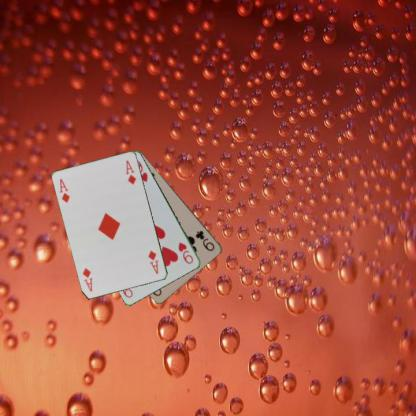9c: (193, 228, 216, 253)
9h: (176, 240, 194, 265)
Ad: (57, 176, 71, 205), (146, 248, 160, 275)
